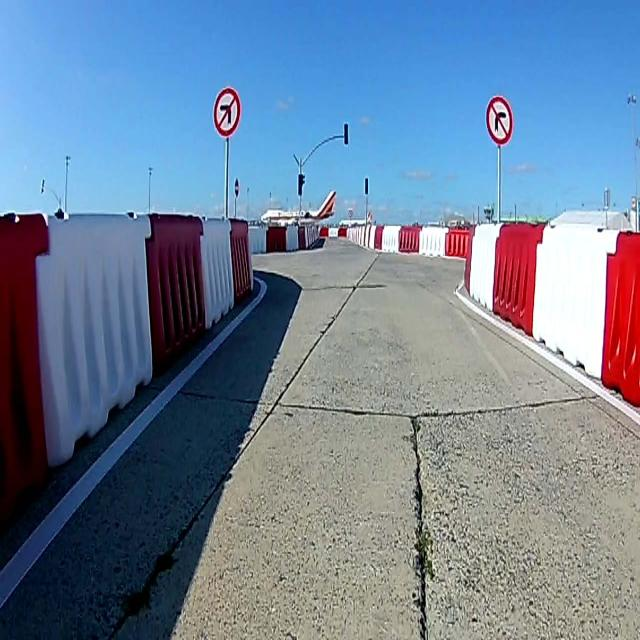sagadonulmez: (487, 95, 513, 144)
soladonulmez: (213, 88, 240, 135)
